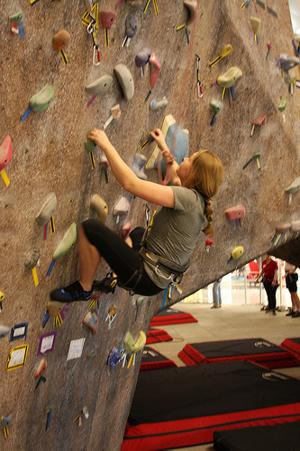person: (50, 128, 224, 303)
